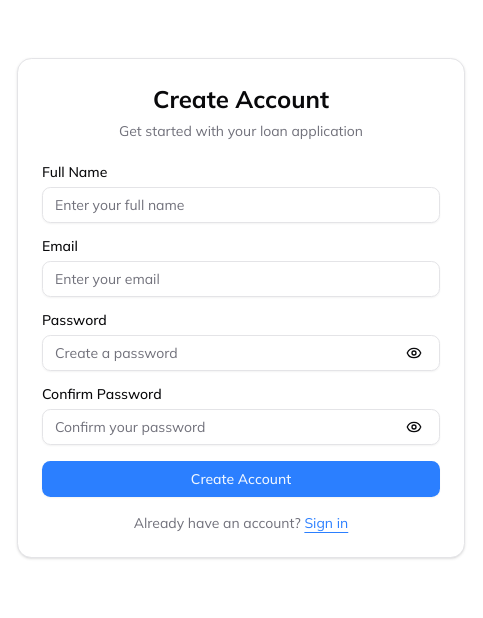
Test case: RegisterPage › validates name minimum length
Type "A" into the field labelled "Full Name".
click(241, 205); type("A")  # box top-left (42, 187), bottom-right (440, 223)
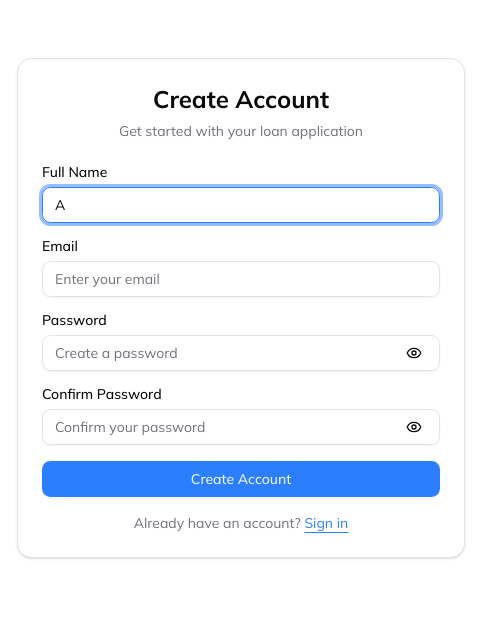
Click the button "Create Account".
click(241, 479)  # box top-left (42, 461), bottom-right (440, 497)
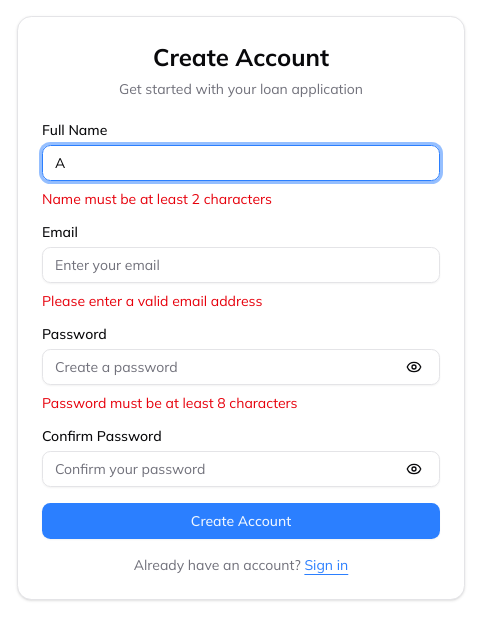
expect the text "Name must be at least 2 characters" is shown: met, box top-left (42, 190), bottom-right (272, 208)
